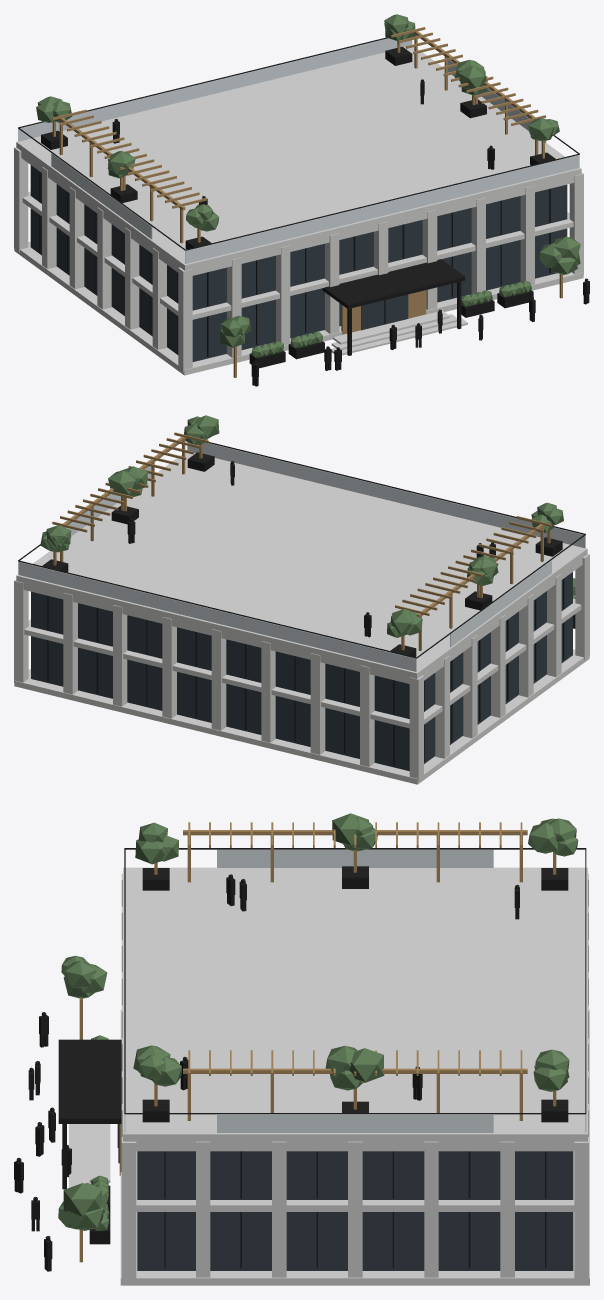
File: podio.glb
The picture shows the model from 3 angles, top to bottom: view 1: azimuth 30°, elevation 25°; view 2: azimuth 150°, elevation 25°; view 3: azimuth 270°, elevation 25°; orthographic projection. The views are drawn at different scales.
Visible parts, largest first — view 1: podio_conc, podio_glass, podio_frame, podio_rail, podio_green, podio_wood; view 2: podio_conc, podio_glass, podio_rail, podio_frame, podio_wood, podio_green; view 3: podio_conc, podio_glass, podio_frame, podio_green, podio_rail, podio_wood.
Part boxes in pixels (x1=…): podio_conc: x1=14, y1=47, x2=583, y2=375; podio_glass: x1=30, y1=165, x2=567, y2=361; podio_frame: x1=18, y1=37, x2=589, y2=386; podio_rail: x1=18, y1=38, x2=579, y2=263; podio_green: x1=36, y1=14, x2=580, y2=357; podio_wood: x1=52, y1=27, x2=562, y2=377; podio_conc: x1=14, y1=452, x2=589, y2=784; podio_glass: x1=31, y1=572, x2=572, y2=771; podio_rail: x1=18, y1=442, x2=585, y2=671; podio_frame: x1=18, y1=442, x2=585, y2=765; podio_wood: x1=52, y1=432, x2=551, y2=650; podio_green: x1=40, y1=415, x2=575, y2=637; podio_conc: x1=69, y1=867, x2=589, y2=1285; podio_glass: x1=118, y1=1124, x2=573, y2=1270; podio_frame: x1=14, y1=848, x2=586, y2=1271; podio_green: x1=58, y1=813, x2=578, y2=1230; podio_rail: x1=124, y1=849, x2=586, y2=1132; podio_wood: x1=79, y1=822, x2=556, y2=1262.
Size of the model in its own units: 30.7 by 11.74 by 27.74.
